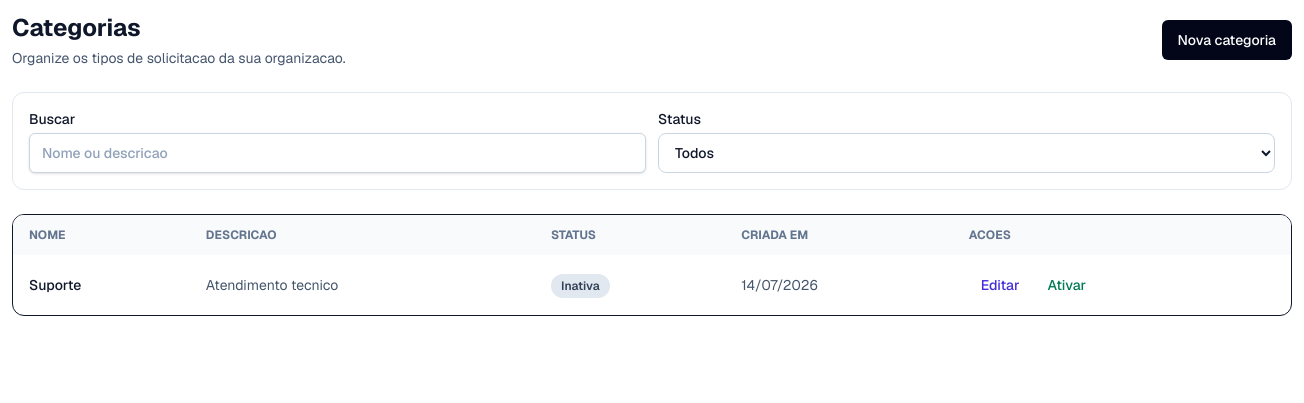
Test case: gerenciamento de categorias › ativa categoria inativa
The width and height of the screenshot is (1304, 403).
Check: the text "Inativa" is shown, box [551,274,610,298]
Click the button "Ativar": (1067, 285) [1035,267,1098,303]
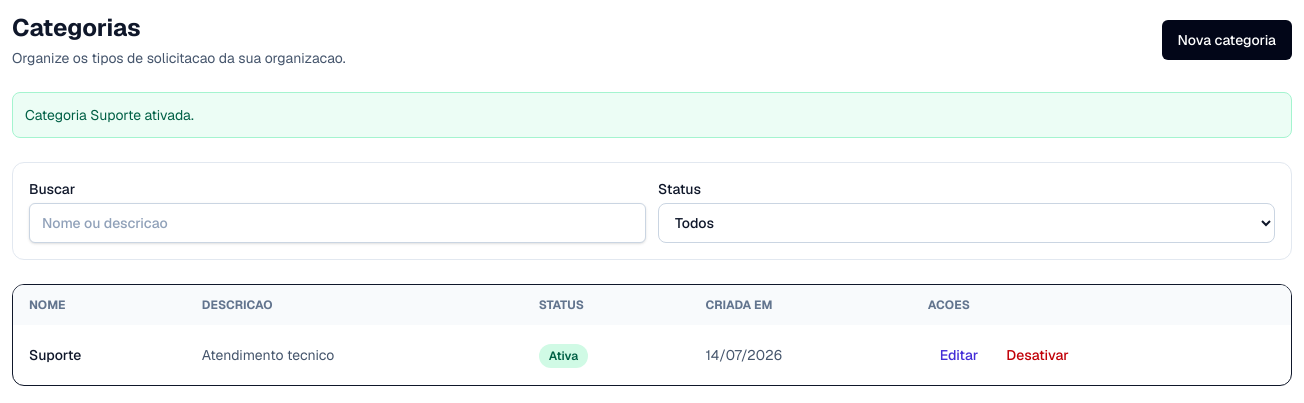
Check: the text "Categoria Suporte ativada." is shown, box [12,92,1292,138]
